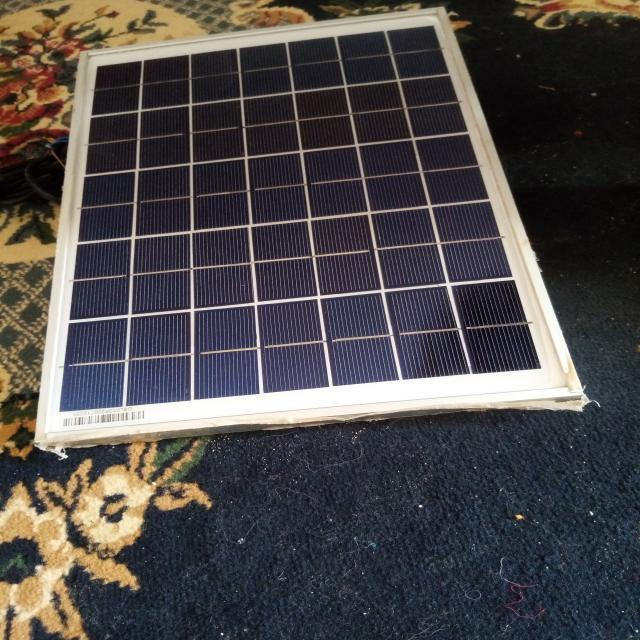Normal Solar Panel: (41, 8, 578, 442)
